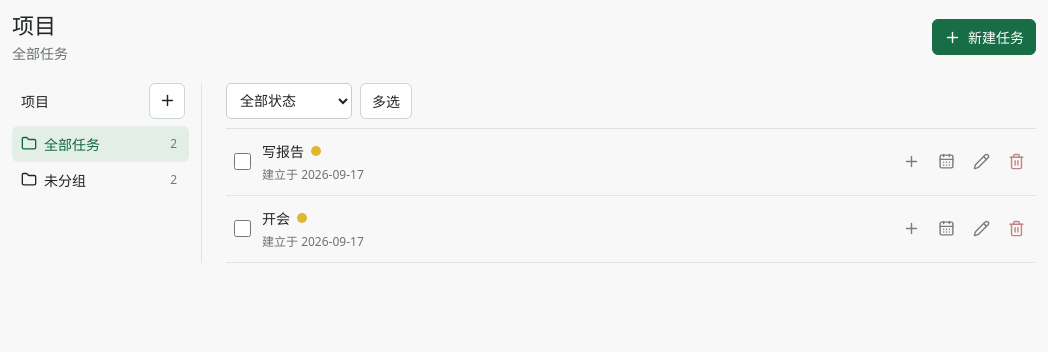
Test: 退出 clears selection and leaves selection mode
The width and height of the screenshot is (1048, 352).
Click the button "多选".
click(386, 100)  # box [360,82,412,118]
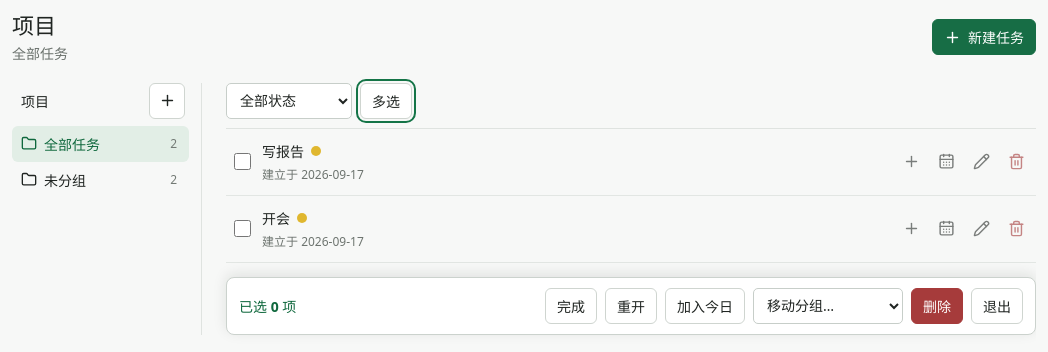
Click the checkbox named "选择 写报告".
click(242, 162)  # box [234,153,251,170]
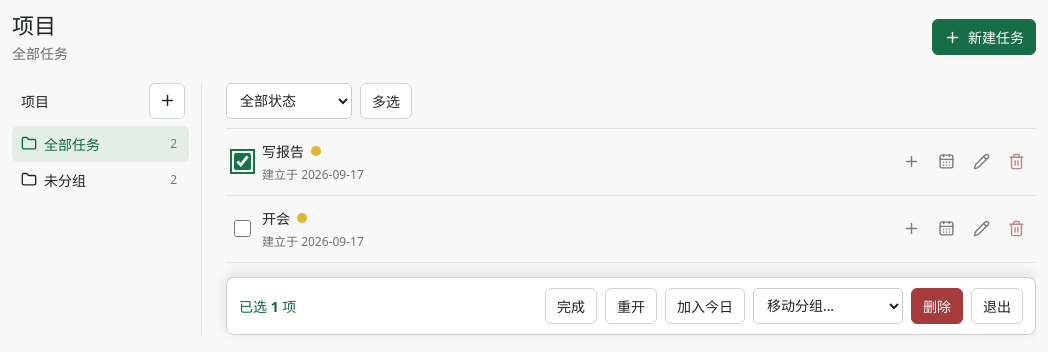
Click the checkbox named "选择 开会".
click(242, 228)  # box [234,220,251,237]
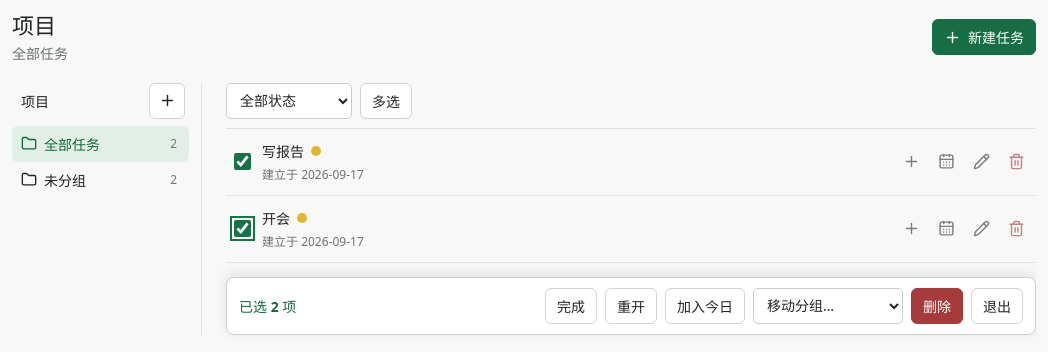
Click the button "退出".
click(997, 306)  # box [971,288,1023,324]
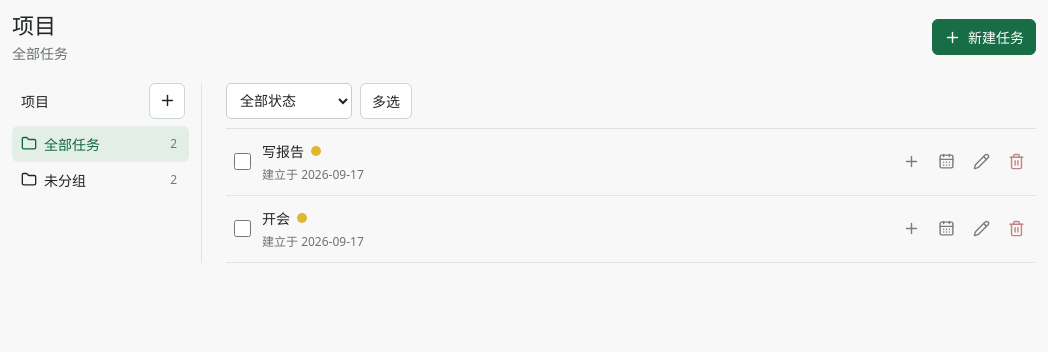
Expected: the text "已选" is gone
Expected: the checkbox named "完成 写报告" is shown, [234,153,251,170]
